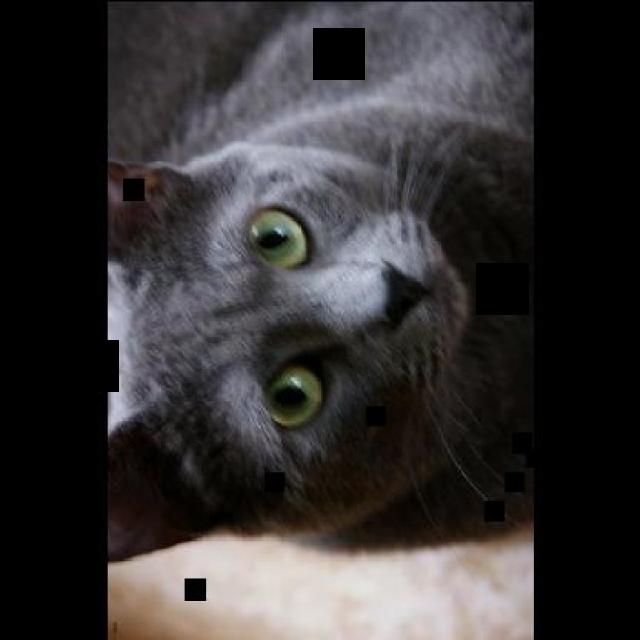unauthorized: (106, 0, 532, 563)
